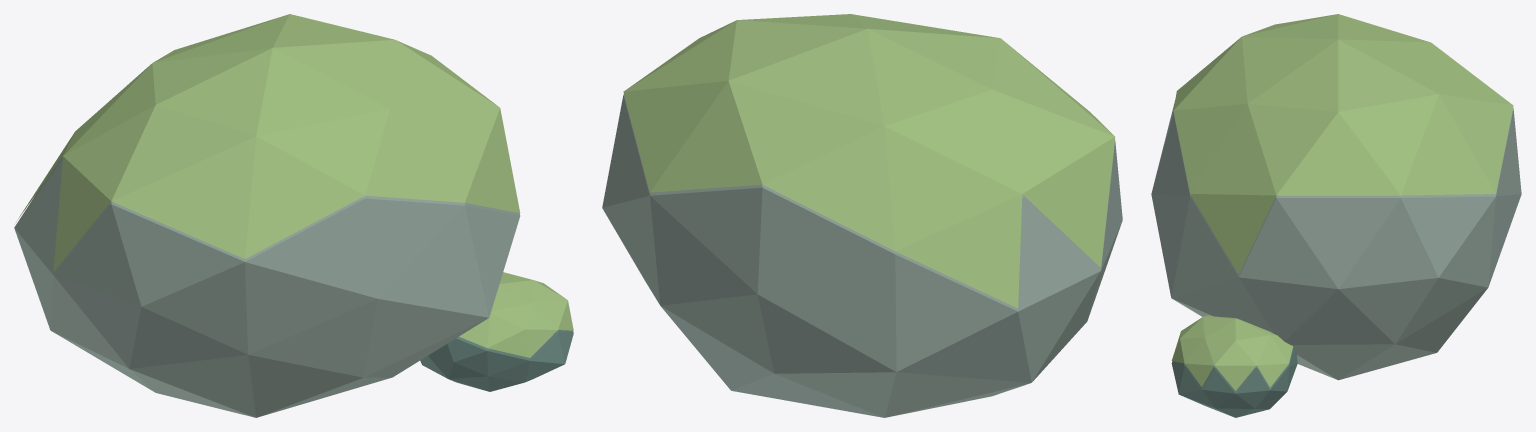
The model's file is rock-boulder-mossy.glb.
3 views of the same model, side by side, from view 1: azimuth 30°, elevation 25°; view 2: azimuth 150°, elevation 25°; view 3: azimuth 270°, elevation 25° (orthographic). The views are drawn at different scales.
Visible parts, largest first — view 1: rock-boulder-kit-mossy-top, rock-boulder-kit-mossy-stone, rock-boulder-kit-mossy-shade; view 2: rock-boulder-kit-mossy-top, rock-boulder-kit-mossy-stone; view 3: rock-boulder-kit-mossy-top, rock-boulder-kit-mossy-stone, rock-boulder-kit-mossy-shade.
Boxes of the visible parts, x1=… form: rock-boulder-kit-mossy-top: x1=16, y1=14, x2=573, y2=357; rock-boulder-kit-mossy-stone: x1=14, y1=157, x2=520, y2=417; rock-boulder-kit-mossy-shade: x1=420, y1=330, x2=573, y2=391; rock-boulder-kit-mossy-top: x1=623, y1=14, x2=1115, y2=308; rock-boulder-kit-mossy-stone: x1=602, y1=94, x2=1122, y2=417; rock-boulder-kit-mossy-top: x1=1171, y1=14, x2=1513, y2=390; rock-boulder-kit-mossy-stone: x1=1151, y1=100, x2=1521, y2=380; rock-boulder-kit-mossy-shade: x1=1171, y1=347, x2=1297, y2=417.
Size of the model in its own units: 2.49 by 1.73 by 1.98.
